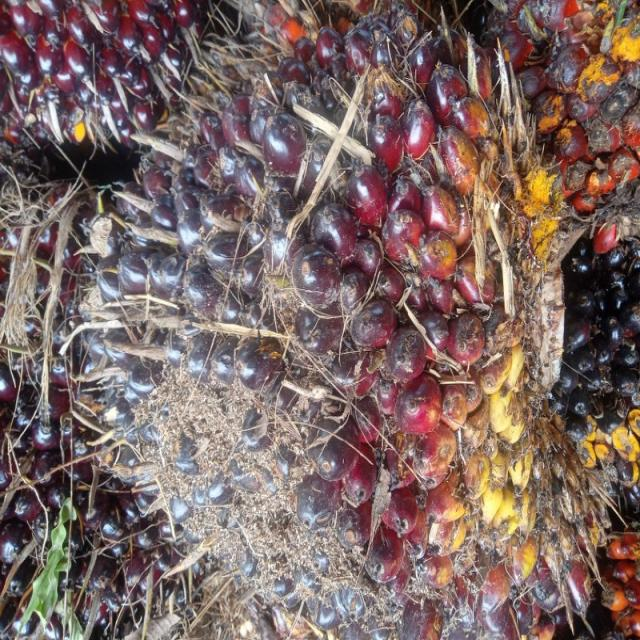fraksi 1: (84, 28, 566, 627)
